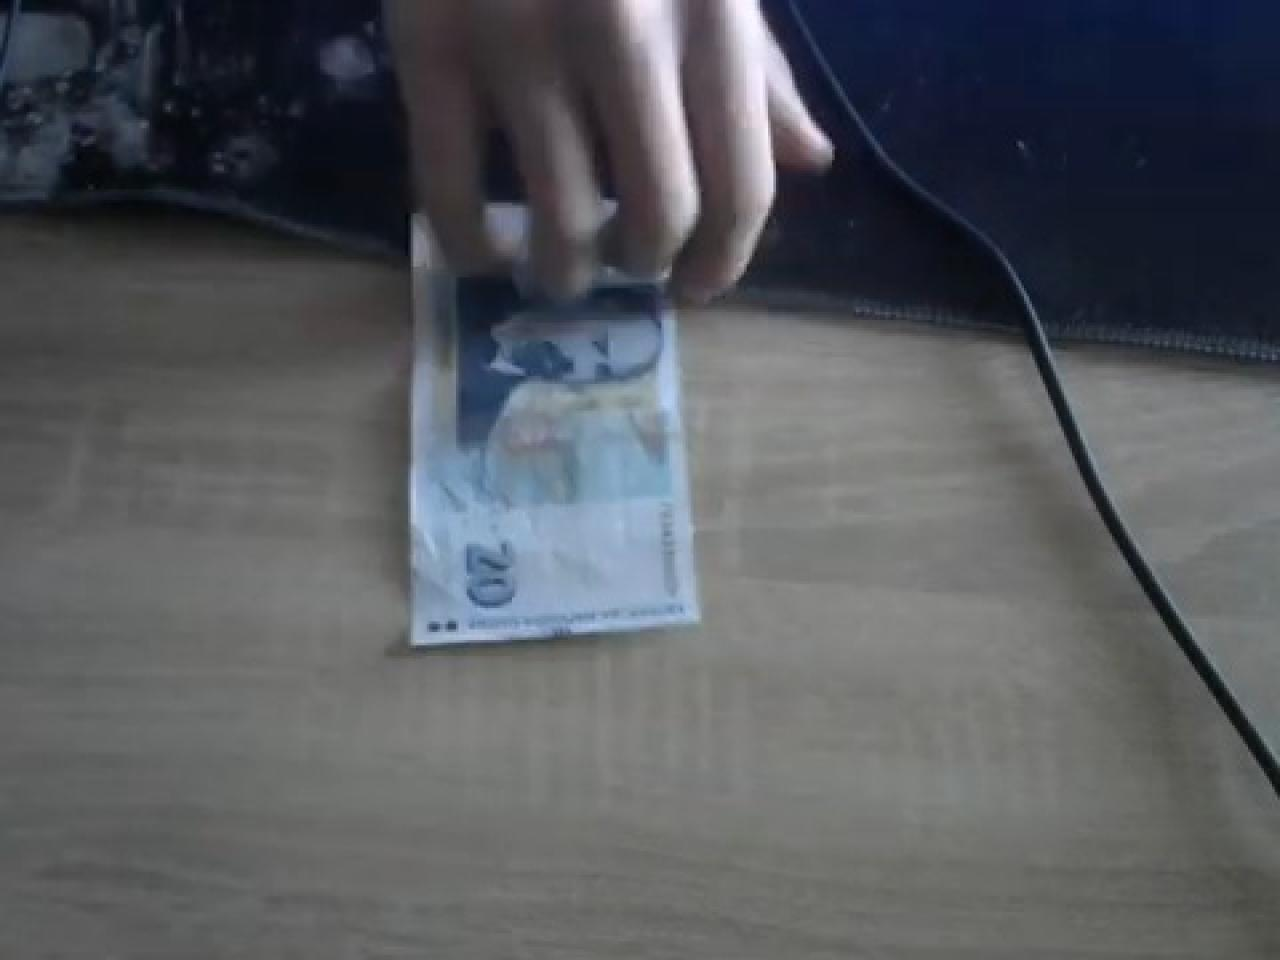20leva: (400, 214, 703, 650)
